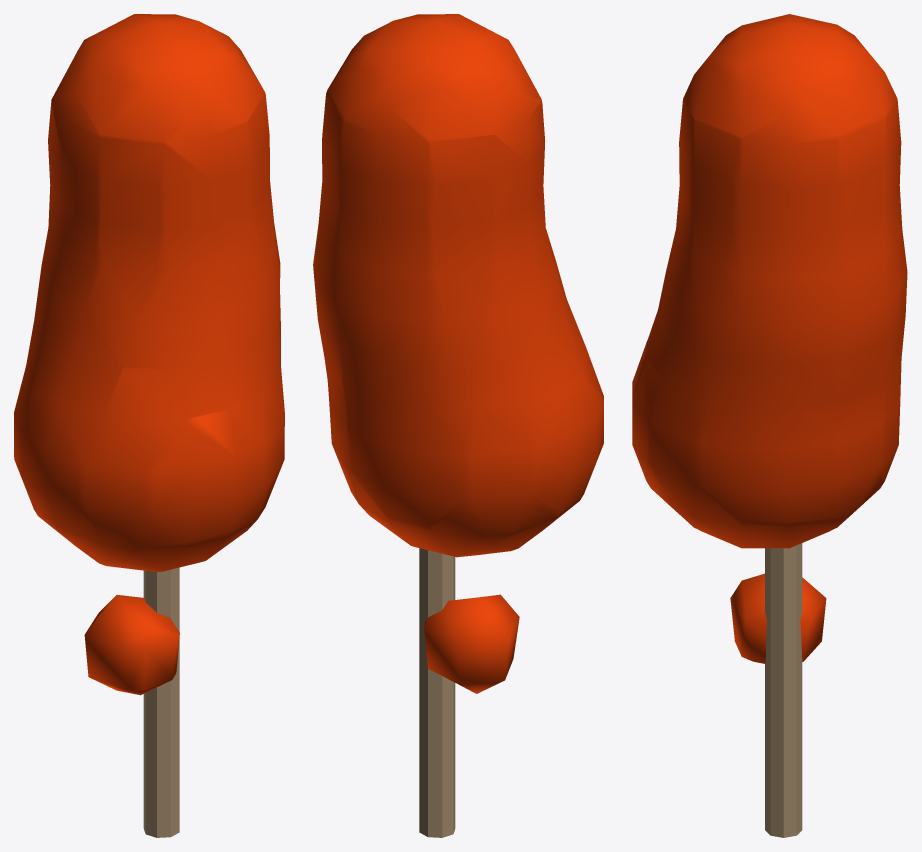
The model's file is tree3.fbx.
3 views of the same model, side by side, from view 1: azimuth 30°, elevation 25°; view 2: azimuth 150°, elevation 25°; view 3: azimuth 270°, elevation 25° (orthographic).
Parts seen in each view (by area): view 1: Mball, Cylinder; view 2: Mball, Cylinder; view 3: Mball, Cylinder.
Boxes of the visible parts, left/top/right/bottom form: Mball: left=14, top=14, right=284, bottom=695; Cylinder: left=143, top=567, right=179, bottom=837; Mball: left=313, top=14, right=603, bottom=693; Cylinder: left=419, top=548, right=455, bottom=837; Mball: left=632, top=14, right=907, bottom=663; Cylinder: left=765, top=543, right=802, bottom=837.
Size of the model in its own units: 599 by 1903 by 588.
